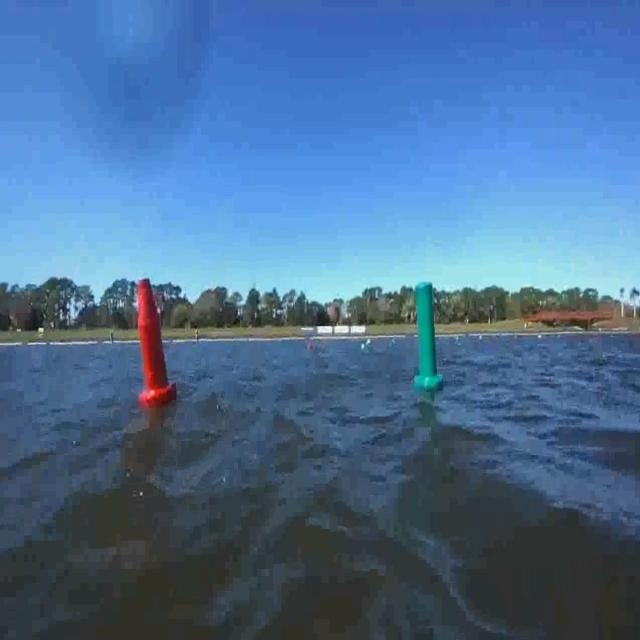green-column-buoy: (413, 279, 444, 392)
red-column-buoy: (134, 278, 174, 408), (307, 342, 312, 352)
